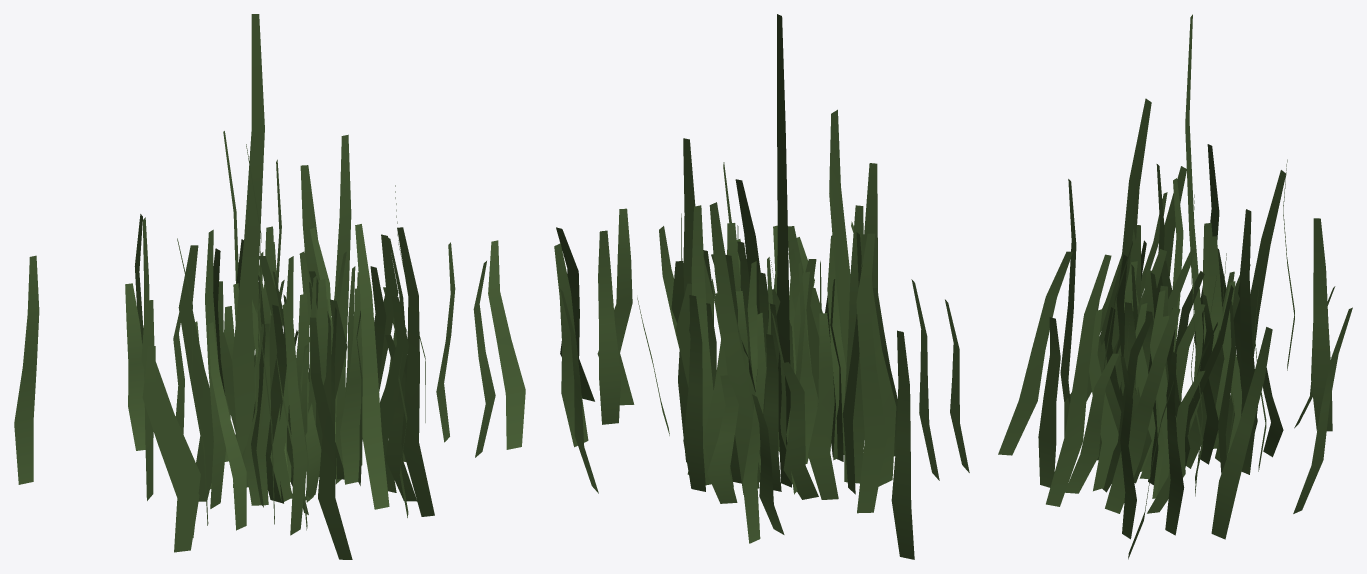
Rendered from _rass.fbx.
3 renders of one model, left to right at view 1: azimuth 30°, elevation 25°; view 2: azimuth 150°, elevation 25°; view 3: azimuth 270°, elevation 25°, orthographic. The views are drawn at different scales.
Parts seen in each view (by area): view 1: Plane; view 2: Plane; view 3: Plane.
Boxes of the visible parts, bbox=[...] form: Plane: bbox=[14, 14, 525, 559]; Plane: bbox=[554, 14, 969, 559]; Plane: bbox=[998, 14, 1352, 559].
Size of the model in its own units: 466 by 491 by 353.
